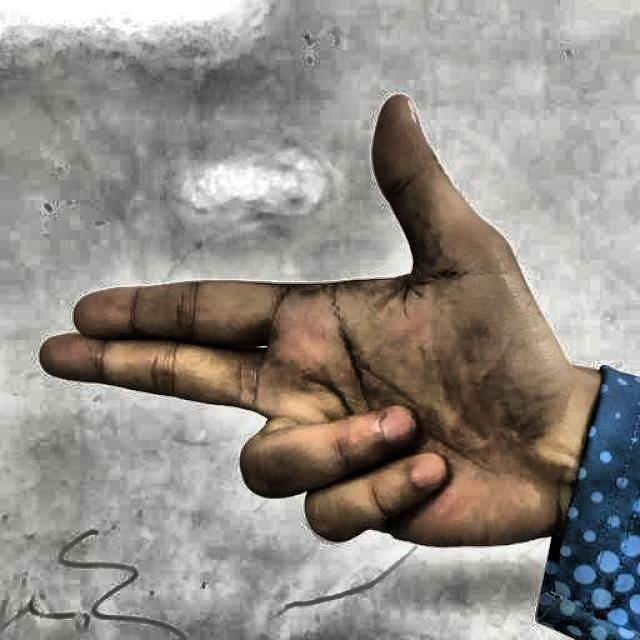Jha: (29, 84, 586, 606)
